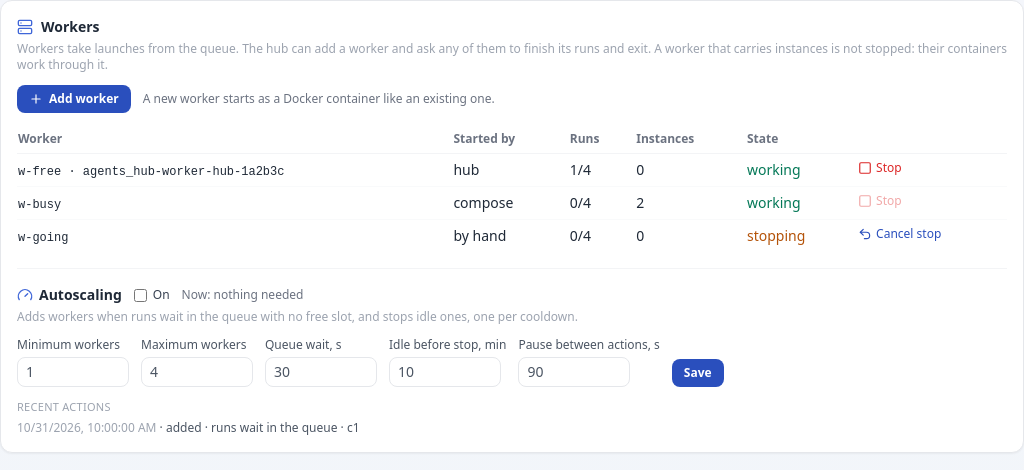
Scenario: WorkersCard › turns autoscaling on and saves its bounds
The width and height of the screenshot is (1024, 470).
Check: the element with test id "autoscale" is shown, box [17, 268, 1007, 436]
Check: the text "Now: nothing needed" is shown, box [182, 287, 303, 303]
Click the checkbox labelled "On" at (140, 295), box [134, 288, 147, 302]
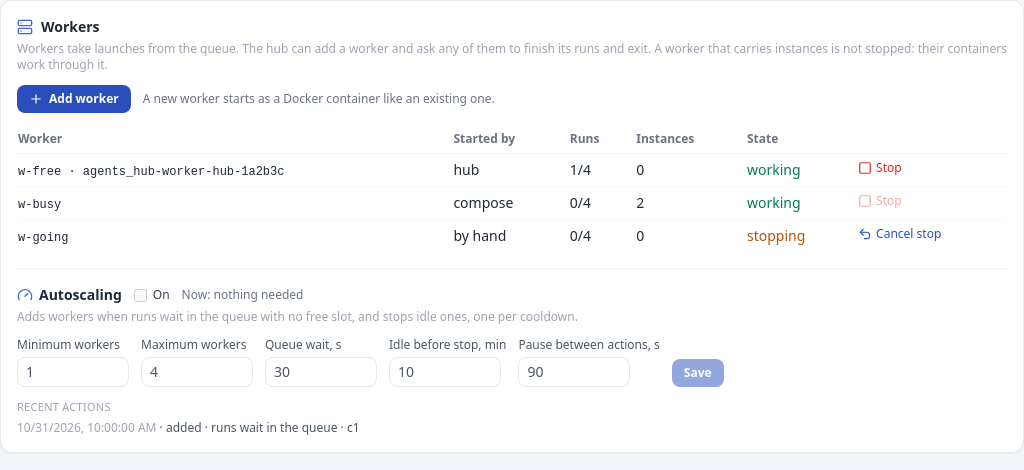
Replace the text in the number field labelled "Maximum workers" with "6" at (197, 372), box [141, 357, 253, 387]
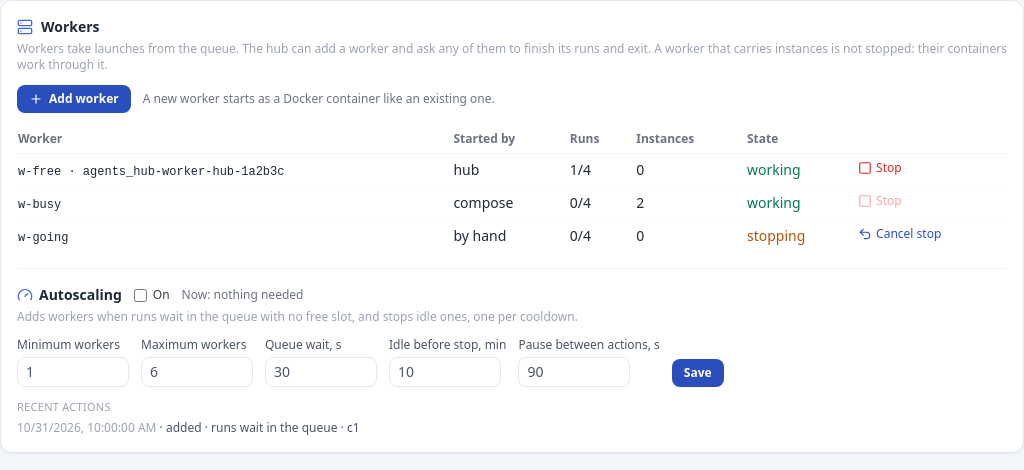
Click the button "Save" at (698, 373), box [672, 359, 724, 387]
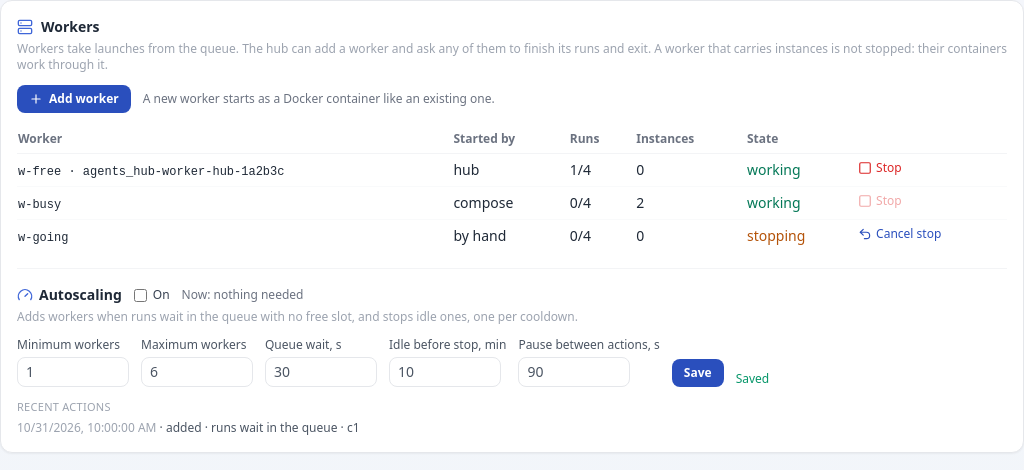
Check: the text "Saved" is shown, box [736, 371, 769, 387]
